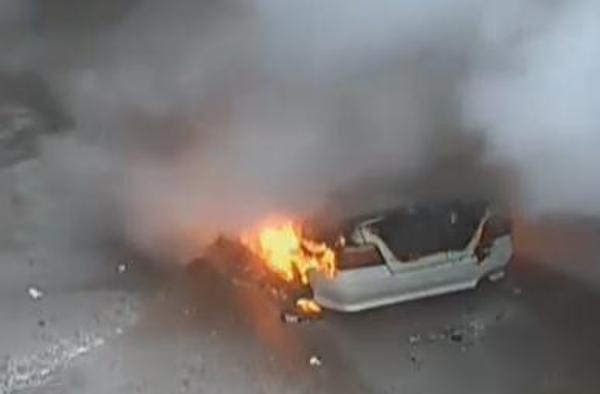fire: (230, 211, 342, 295)
